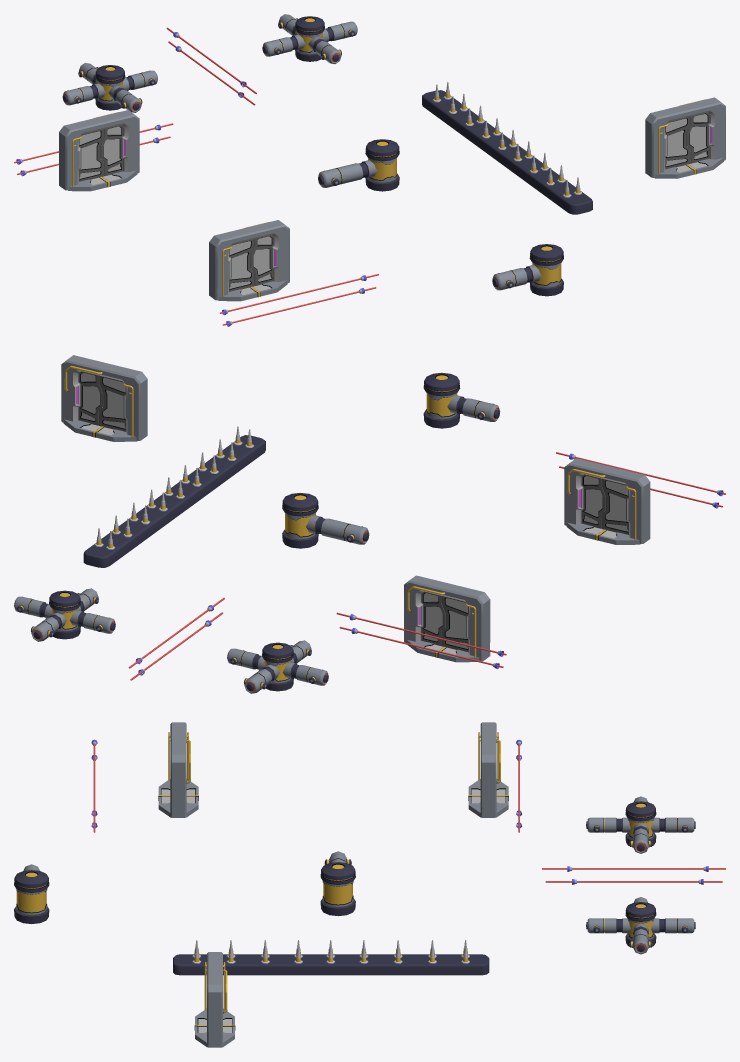
3 views of the same model, one above another, from view 1: azimuth 30°, elevation 25°; view 2: azimuth 150°, elevation 25°; view 3: azimuth 270°, elevation 25° (orthographic). The views are drawn at different scales.
Visible parts, largest first — view 1: Base (×4), pCylinder13 (×4), Right (×3), pCylinder14 (×4), Left (×3), Base5 (×3); view 2: Base (×4), pCylinder14 (×8), pCylinder13 (×4), Right (×3), Left (×3), Base5 (×3); view 3: Base (×4), pCylinder13 (×4), pCylinder14 (×4), Base5 (×3).
Boxes of the visible parts, box(x1,y1,x2,y2) form: Base (×4): box(59, 90, 725, 300); pCylinder13 (×4): box(95, 16, 563, 296); Right (×3): box(79, 116, 690, 291); pCylinder14 (×4): box(62, 34, 541, 290); Left (×3): box(100, 112, 709, 285); Base5 (×3): box(68, 157, 723, 301); Base (×4): box(61, 355, 650, 661); pCylinder14 (×8): box(14, 395, 500, 693); pCylinder13 (×4): box(49, 372, 460, 691); Right (×3): box(98, 375, 628, 652); Left (×3): box(78, 371, 605, 645); Base5 (×3): box(63, 419, 640, 662); Base (×4): box(170, 722, 496, 1047); pCylinder13 (×4): box(14, 801, 656, 947); pCylinder14 (×4): box(586, 817, 695, 933); Base5 (×3): box(158, 779, 508, 1046).
Size of the model in its own units: 411 by 43.74 by 438.
